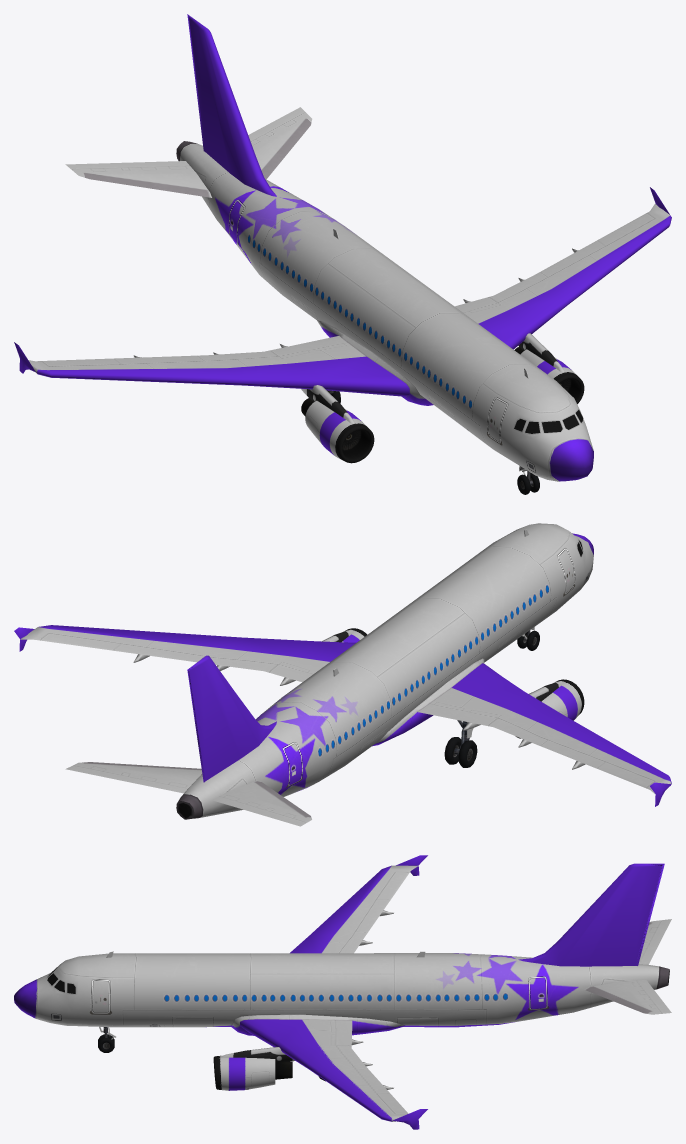
The model's file is Air plane.fbx.
3 renders of one model, top to bottom at view 1: azimuth 30°, elevation 25°; view 2: azimuth 150°, elevation 25°; view 3: azimuth 270°, elevation 25°, orthographic. The views are drawn at different scales.
Visible parts, largest first — view 1: Air_plane; view 2: Air_plane, wheel_2; view 3: Air_plane.
Boxes of the visible parts, box(x1,y1,x2,y2) form: Air_plane: box(14, 14, 671, 481); Air_plane: box(14, 523, 671, 826); wheel_2: box(444, 737, 477, 767); Air_plane: box(14, 855, 671, 1129).
Size of the model in its own units: 2802 by 965 by 3058.
